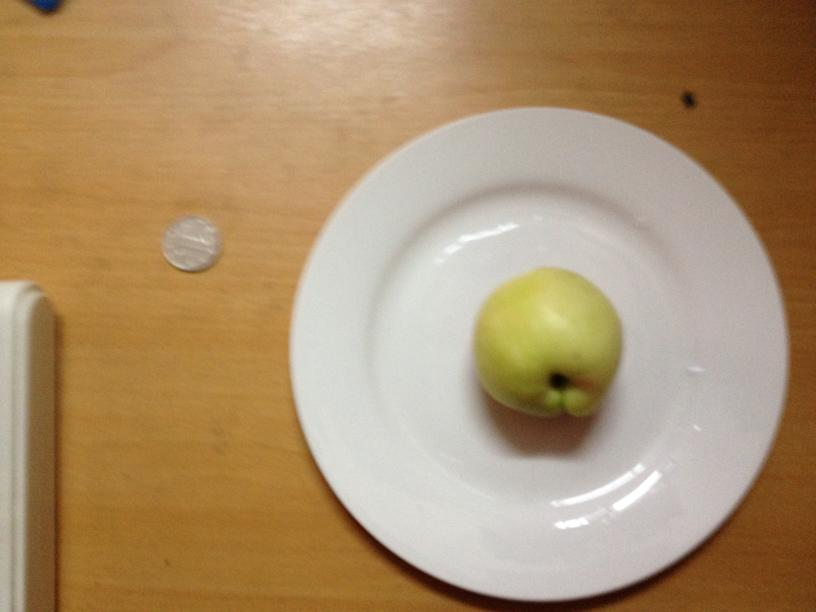coin: (159, 215, 219, 272)
peach: (478, 267, 623, 419)
